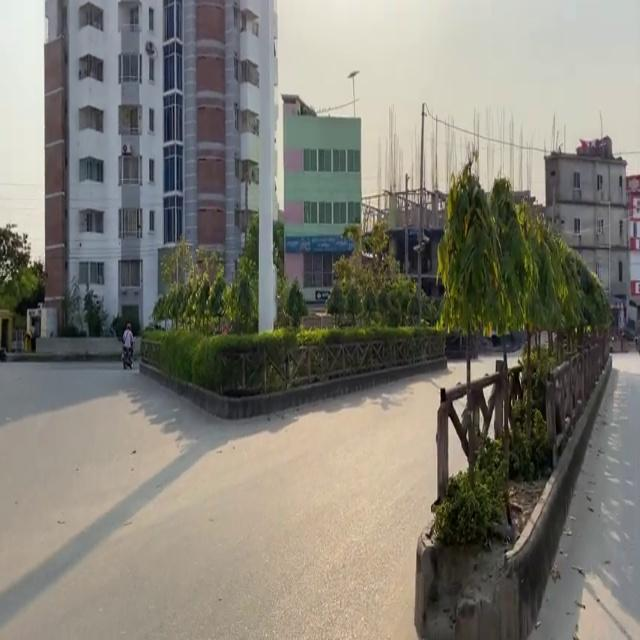Construction-barrier: (138, 331, 447, 420)
Downstairs: (22, 332, 35, 352)
Fallen-tree: (120, 345, 134, 369)
Garbage-bin: (121, 322, 134, 369)
Muddy road: (412, 152, 614, 639)
Pothole: (515, 344, 639, 639)
